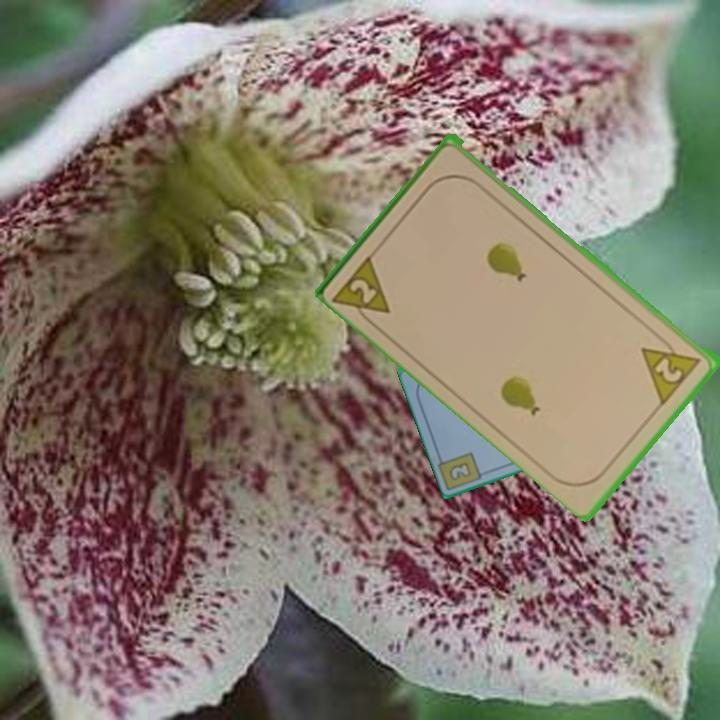2b: (446, 458, 474, 483)
2p: (330, 249, 394, 331), (637, 330, 706, 406)
